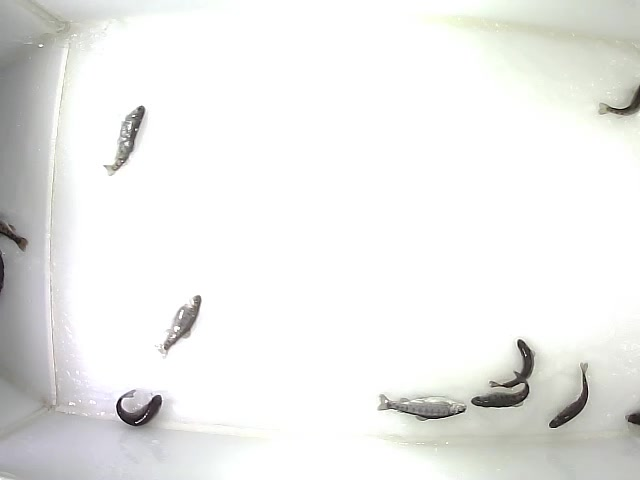fish: (153, 293, 202, 363), (102, 104, 146, 179), (548, 361, 591, 429), (376, 392, 468, 422), (488, 338, 537, 390), (470, 371, 531, 409), (115, 388, 163, 428)
